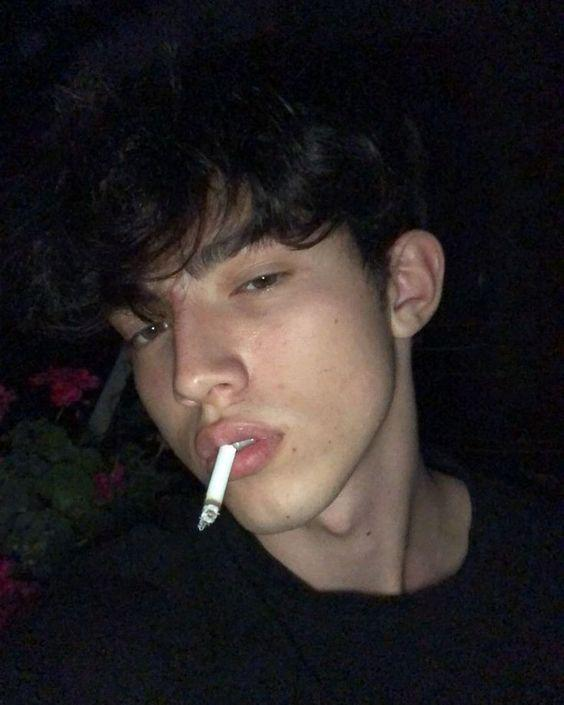cigarette: (198, 444, 237, 532)
